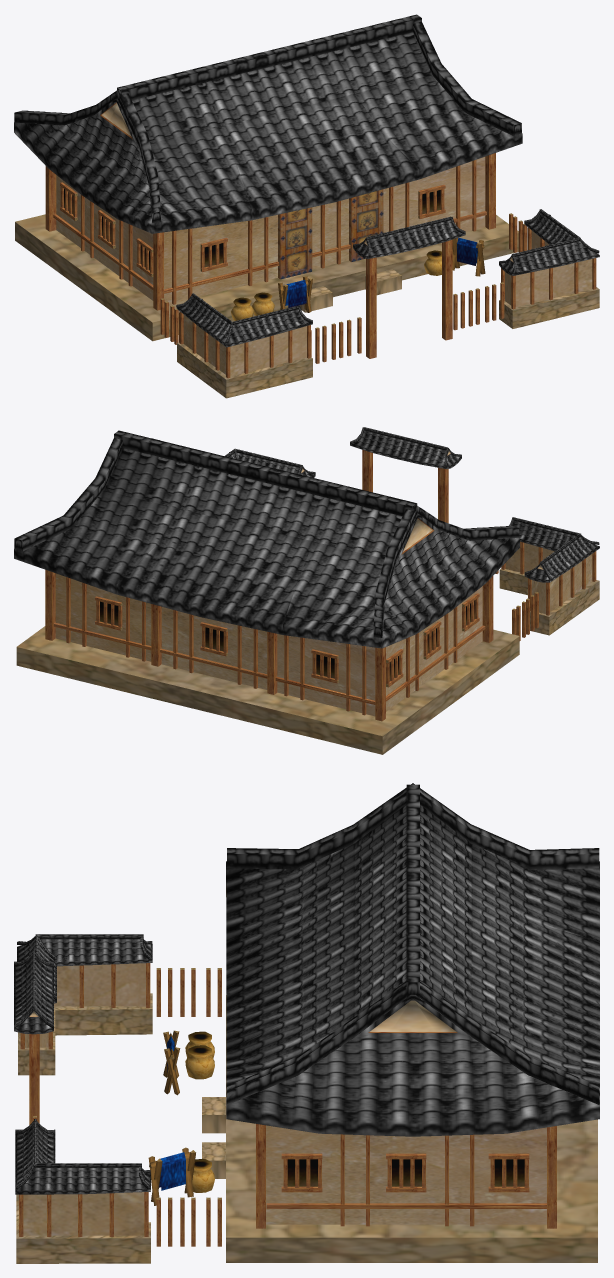
The picture shows the model from 3 angles, top to bottom: view 1: azimuth 30°, elevation 25°; view 2: azimuth 150°, elevation 25°; view 3: azimuth 270°, elevation 25°; orthographic projection. The views are drawn at different scales.
Visible parts, largest first — view 1: cc; view 2: cc; view 3: cc.
Part boxes in pixels (bbox=[...]): cc: bbox=[14, 14, 599, 398]; cc: bbox=[14, 427, 599, 754]; cc: bbox=[14, 783, 599, 1263].
Size of the model in its own units: 25.35 by 25.5 by 12.47.
